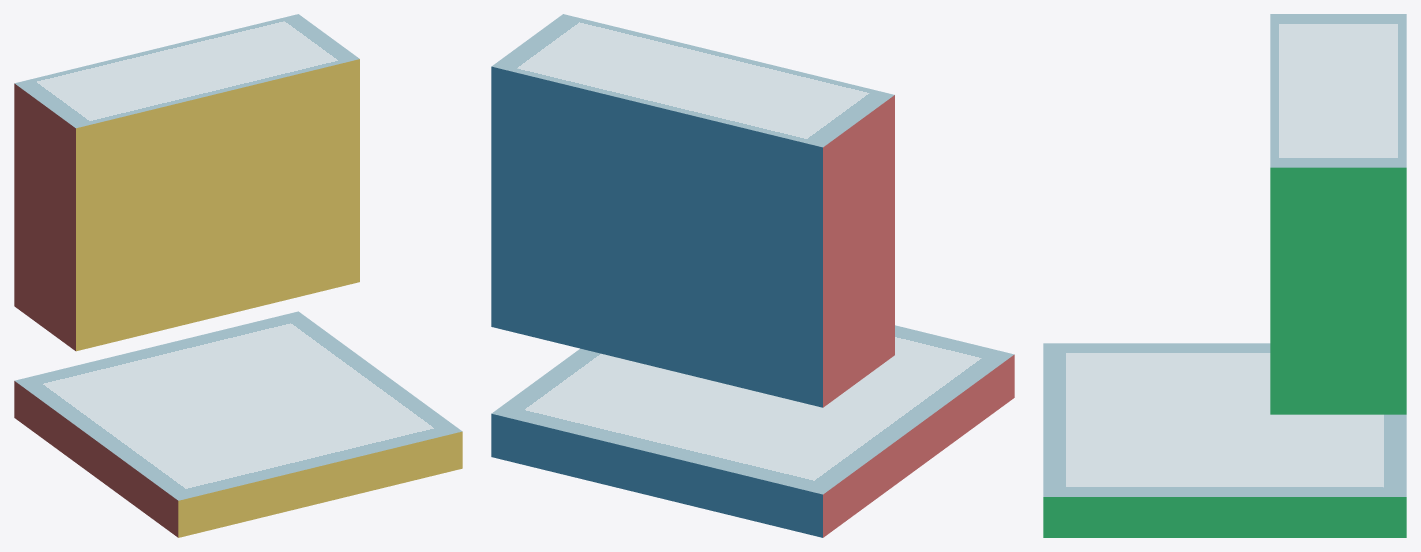
The model's file is testModel.obj.
3 renders of one model, left to right at view 1: azimuth 30°, elevation 25°; view 2: azimuth 150°, elevation 25°; view 3: azimuth 270°, elevation 25°, orthographic. The views are drawn at different scales.
Parts seen in each view (by area): view 1: cube; view 2: cube; view 3: cube.
Boxes of the visible parts, left/top/right/bottom form: cube: left=14, top=14, right=462, bottom=537; cube: left=491, top=14, right=1014, bottom=537; cube: left=1043, top=14, right=1406, bottom=537.
Size of the model in its own units: 1 by 1.12 by 1.
Materials: 1 (1 with a texture image).
